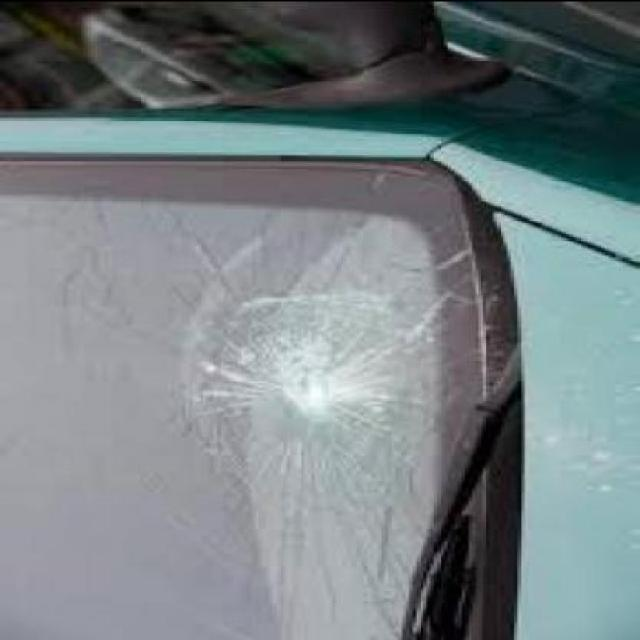damage: (196, 291, 402, 498)
